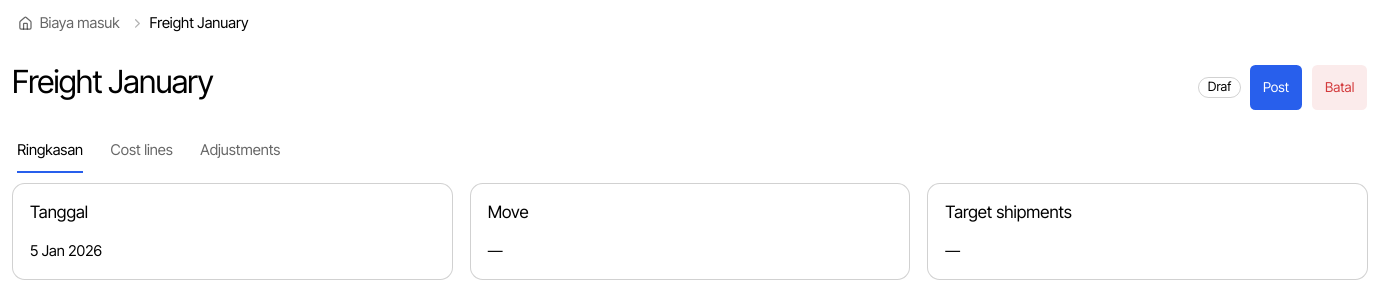
Test: InboundCostDetail branches › renders cost lines with description fallback
The image size is (1378, 297).
Expected: the heading "Freight January" is shown, [12,64,213,100]
Click the tab "Cost lines" at (142, 151), box [110,128,174,174]
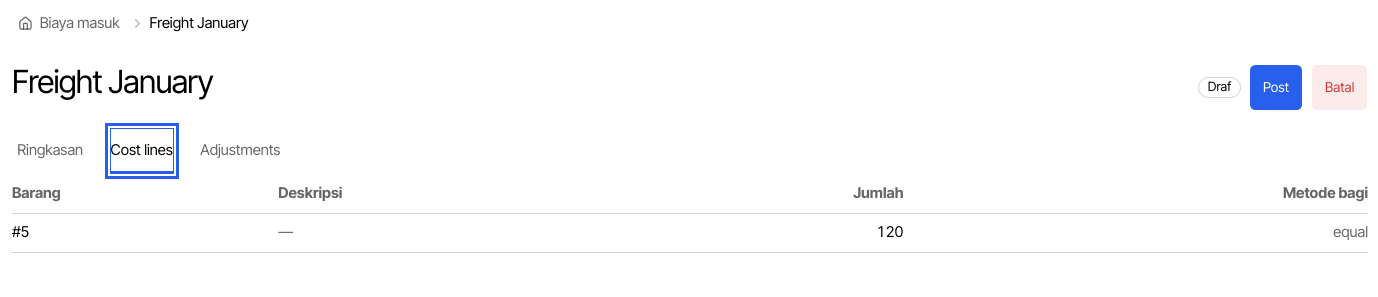
Expected: the text "—" is shown, [278,213,628,252]
Now the text "#5" is shown, box [12,213,278,252]
